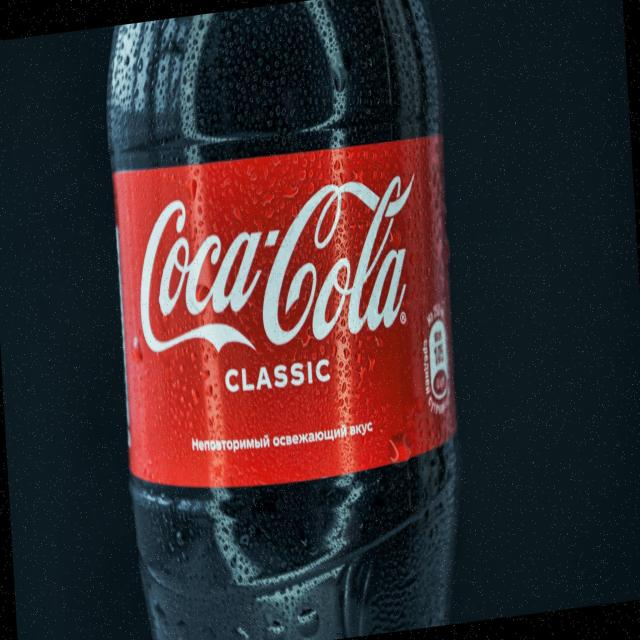coca-cola: (127, 154, 428, 378)
